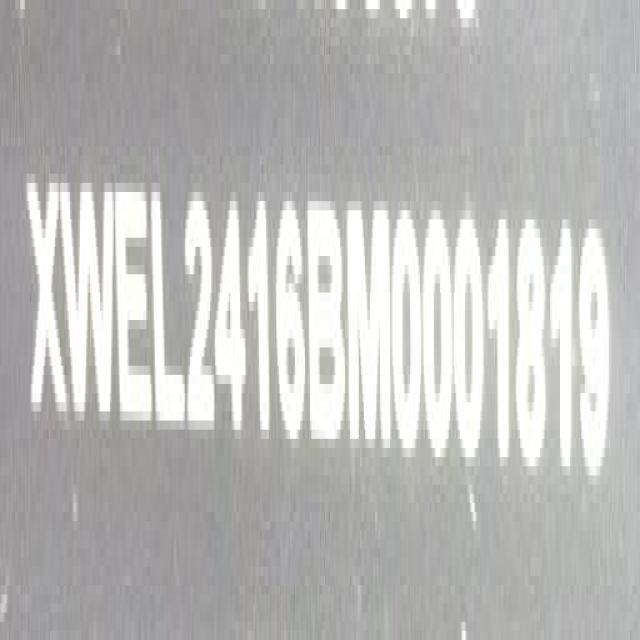0: (451, 203, 483, 468), (394, 203, 426, 462), (423, 205, 453, 467)
1: (487, 202, 512, 473), (550, 212, 574, 482), (250, 185, 274, 445)
2: (186, 184, 217, 443)
4: (215, 188, 247, 443)
6: (276, 191, 309, 453)
8: (517, 208, 549, 479)
9: (580, 224, 614, 488)
B: (308, 192, 347, 452)
E: (117, 172, 153, 438)
L: (151, 182, 184, 438)
M: (348, 195, 392, 458)
W: (60, 162, 114, 436)
X: (29, 166, 65, 436)
